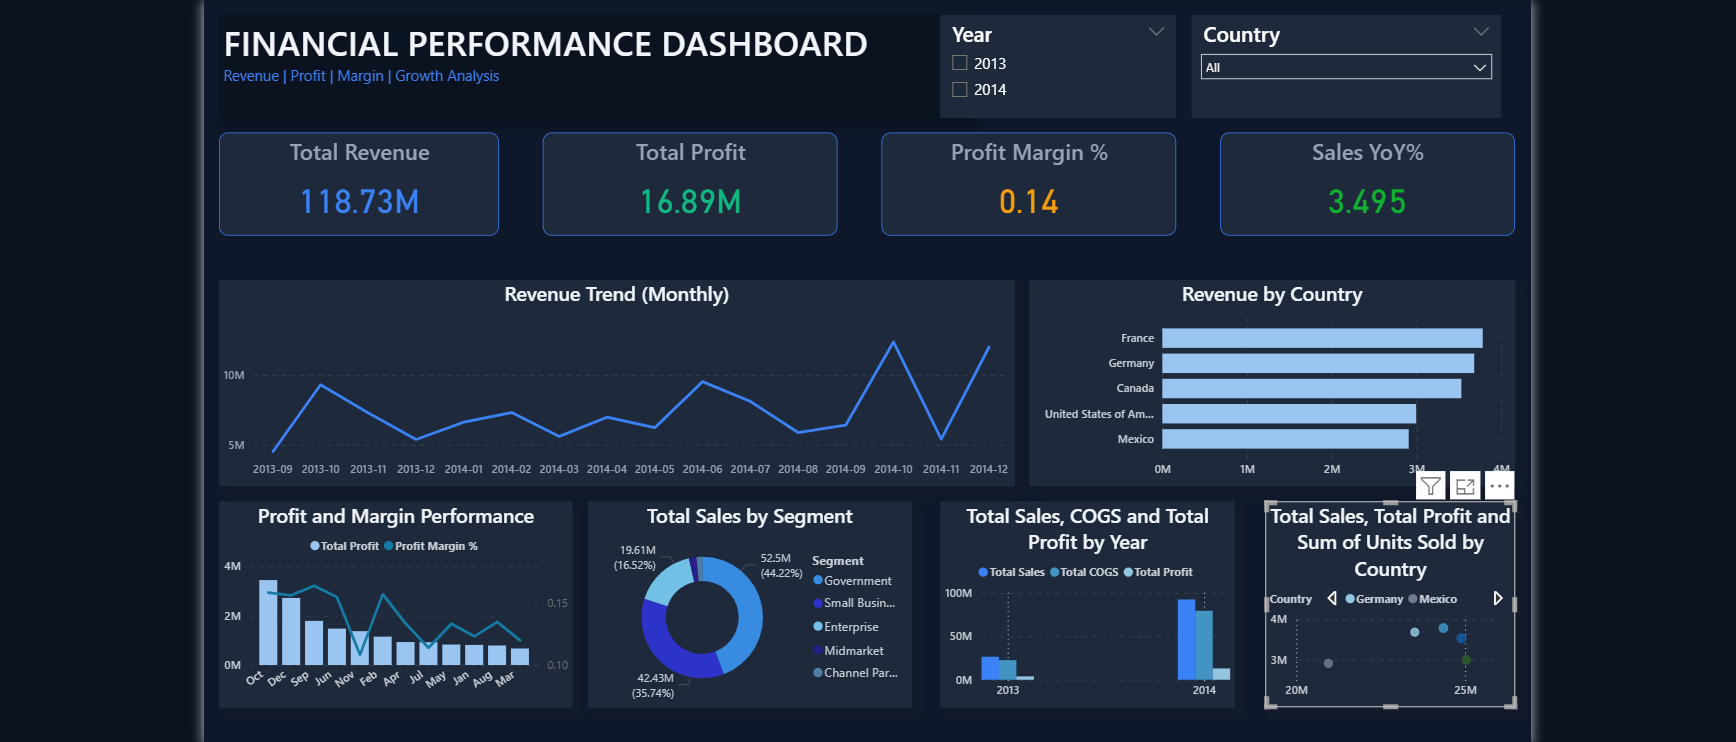

The dashboard page shown, as its layout file describes it:
{"tool":"powerbi","page":{"name":"Page 1","canvas":[1440,810],"ordinal":0},"visuals":[{"type":"textbox","box":[16,16,816,112],"z":0},{"type":"card","title":"Total Revenue","fields":{"Values":["financials.Total Sales"]},"box":[16,144,304,112],"z":1000},{"type":"card","title":"Sales YoY%","fields":{"Values":["financials.Sales YoY %"]},"box":[1104,144,320,112],"z":2000},{"type":"card","title":"Profit Margin %","fields":{"Values":["financials.Profit Margin %"]},"box":[736,144,320,112],"z":3000},{"type":"card","title":"Total Profit","fields":{"Values":["financials.Total Profit"]},"box":[368,144,320,112],"z":4000},{"type":"lineChart","title":"Revenue Trend (Monthly)","fields":{"Category":["Date Table.Year-Month"],"Y":["financials.Total Sales"]},"box":[16,304,864,224],"z":5000},{"type":"slicer","fields":{"Values":["Date Table.Year"]},"box":[800,16,256,112],"z":6000},{"type":"slicer","fields":{"Values":["financials.Country"]},"box":[1072,16,336,112],"z":7000},{"type":"lineClusteredColumnComboChart","title":"Profit and Margin Performance","fields":{"Category":["Date Table.Month Name"],"Y":["financials.Total Profit"],"Y2":["financials.Profit Margin %"]},"box":[16,544,384,224],"z":8000},{"type":"barChart","title":"Revenue by Country","fields":{"Category":["financials.Country"],"Y":["financials.Total Profit"]},"box":[896,304,528,224],"z":9000},{"type":"donutChart","fields":{"Category":["financials.Segment"],"Y":["financials.Total Sales"]},"box":[416,544,352,224],"z":10000},{"type":"scatterChart","fields":{"X":["financials.Total Sales"],"Y":["financials.Total Profit"],"Size":["Sum(financials.Units Sold)"],"Series":["financials.Country"]},"box":[1152,544,272,224],"z":11000},{"type":"clusteredColumnChart","title":"Total Sales, COGS and Total Profit by Year","fields":{"Category":["Date Table.Year"],"Y":["financials.Total Sales","financials.Total COGS","financials.Total Profit"]},"box":[800,544,320,224],"z":12000}]}

Visuals, with their boxes on the page's 1440x810 design canvas (x1, y1, x2, y2). These are canvas units, not pixel positions in the 1736x742 screenshot, which may show the page scaled, cropped or inside an application window:
textbox: bbox=[16, 16, 832, 128]
"Total Revenue" card: bbox=[16, 144, 320, 256]
"Sales YoY%" card: bbox=[1104, 144, 1424, 256]
"Profit Margin %" card: bbox=[736, 144, 1056, 256]
"Total Profit" card: bbox=[368, 144, 688, 256]
"Revenue Trend (Monthly)" lineChart: bbox=[16, 304, 880, 528]
slicer - Date Table.Year: bbox=[800, 16, 1056, 128]
slicer - financials.Country: bbox=[1072, 16, 1408, 128]
"Profit and Margin Performance" lineClusteredColumnComboChart: bbox=[16, 544, 400, 768]
"Revenue by Country" barChart: bbox=[896, 304, 1424, 528]
donutChart - financials.Segment x financials.Total Sales: bbox=[416, 544, 768, 768]
scatterChart - financials.Total Sales x financials.Total Profit: bbox=[1152, 544, 1424, 768]
"Total Sales, COGS and Total Profit by Year" clusteredColumnChart: bbox=[800, 544, 1120, 768]
